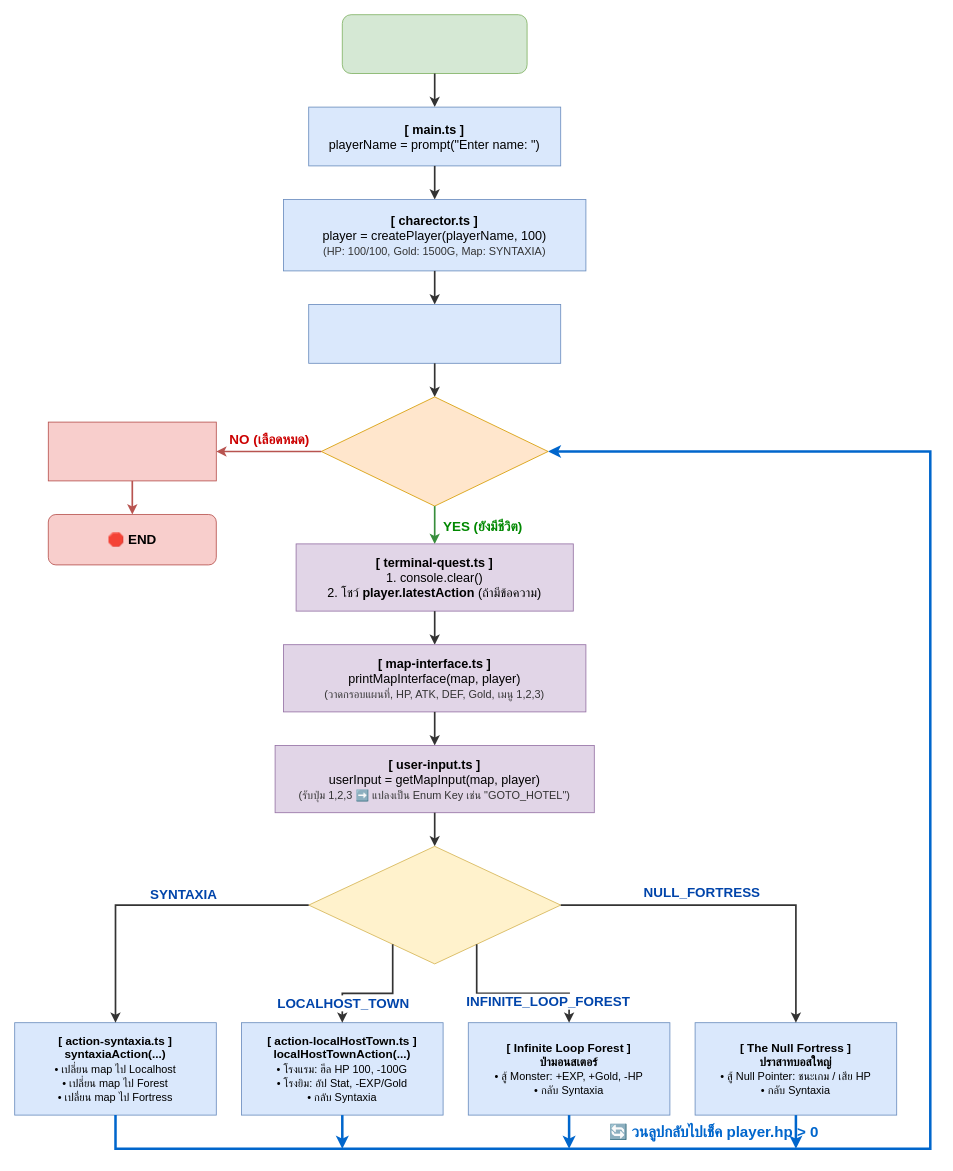
The diagram is 953 pixels wide and 1171 high, and some of its shapes have lost their labels. Here are the shapes that lost their labels. From the top down, the box of each, then its label:
(341, 14, 527, 74): [ main.ts ] 🏁 START
(308, 304, 561, 363): [ main.ts ➡️ terminal-quest.ts ] runTerminalQuest(player)
(47, 421, 216, 481): 💀 Game Over! ผู้เล่นพลังชีวิตหมด
(320, 396, 548, 506): [ terminal-quest.ts ] player.hp > 0 ?
(308, 845, 561, 964): [ terminal-quest.ts ] switch (player.currentMap)
